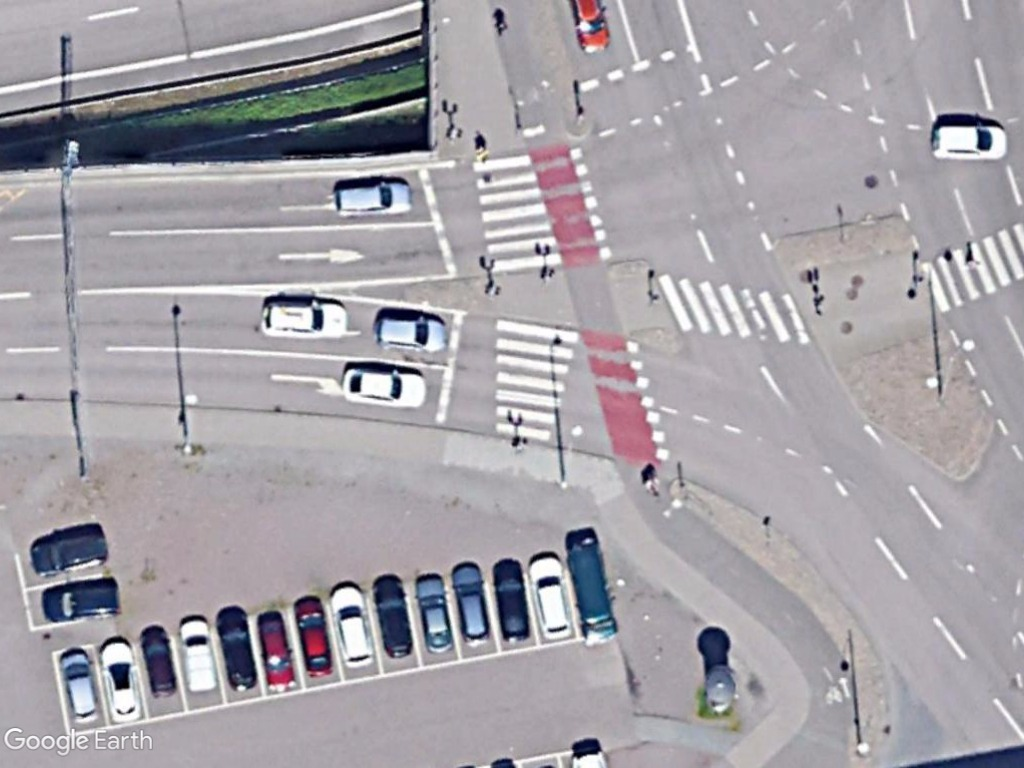car: (523, 548, 580, 646), (326, 580, 378, 673), (446, 557, 496, 653), (24, 527, 113, 580), (338, 363, 434, 412), (98, 634, 147, 730), (256, 296, 355, 343), (370, 571, 420, 663), (40, 577, 126, 629), (490, 555, 537, 650), (927, 117, 1016, 166), (212, 604, 259, 694), (413, 571, 460, 660), (291, 594, 339, 680), (255, 610, 301, 699), (55, 646, 104, 729), (328, 177, 415, 223), (134, 621, 182, 702), (372, 308, 453, 352)
van: (563, 538, 622, 649), (174, 614, 223, 699)
